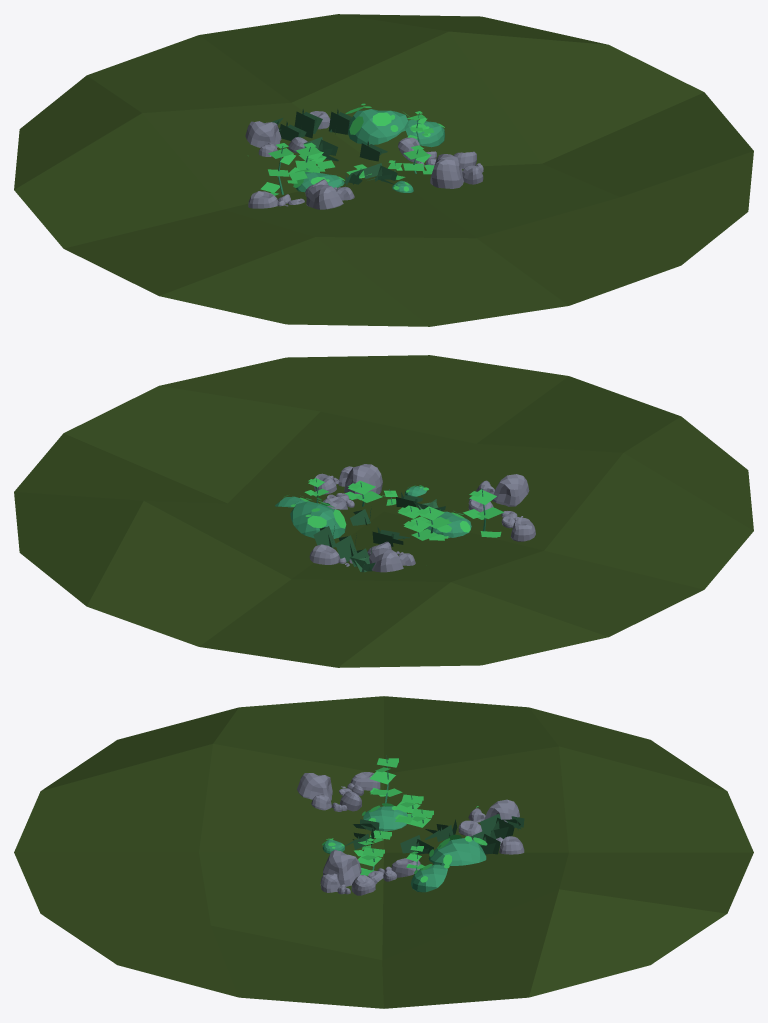
The model's file is Ground_neutral.fbx.
The picture shows the model from 3 angles, top to bottom: view 1: azimuth 30°, elevation 25°; view 2: azimuth 150°, elevation 25°; view 3: azimuth 270°, elevation 25°; orthographic projection.
Parts seen in each view (by area): view 1: Plane, Cube.003, Cube.002, Cube.012, Cube.010, Cube.013, Cube.011, Cube.006, Cube, Cube.007; view 2: Plane, Cube.012, Cube.003, Cube.010, Cube.002, Cube.013, Cube, Cube.006; view 3: Plane, Cube.003, Cube.012, Cube.010, Cube.002, Cube.011, Cube, Cube.013, Plane.007.
Part boxes in pixels (x1,y1,x2,y2): Plane: (14,14,753,326); Cube.003: (398,137,483,188); Cube.002: (345,103,409,144); Cube.012: (248,179,354,209); Cube.010: (245,111,330,156); Cube.013: (260,143,307,195); Cube.011: (405,117,444,147); Cube.006: (288,142,334,173); Cube: (293,168,344,192); Cube.007: (403,145,434,174); Plane: (14,355,753,667); Cube.012: (468,474,535,541); Cube.003: (314,464,382,509); Cube.010: (309,541,415,572); Cube.002: (290,497,346,538); Cube.013: (463,488,503,537); Cube: (425,509,471,537); Cube.006: (411,506,451,540); Plane: (14,696,753,1008); Cube.003: (320,849,420,895); Cube.012: (297,772,380,811); Cube.010: (458,799,524,854); Cube.002: (428,834,487,865); Cube.011: (411,864,449,892); Cube: (362,803,408,831); Cube.013: (369,756,402,803); Plane.007: (480,814,513,839).
Size of the model in its own units: 1395 by 195 by 1395.
